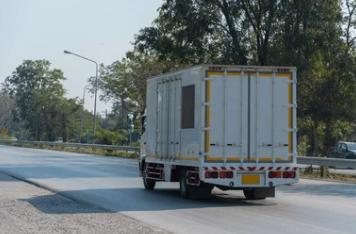vehicle: (127, 64, 299, 200)
